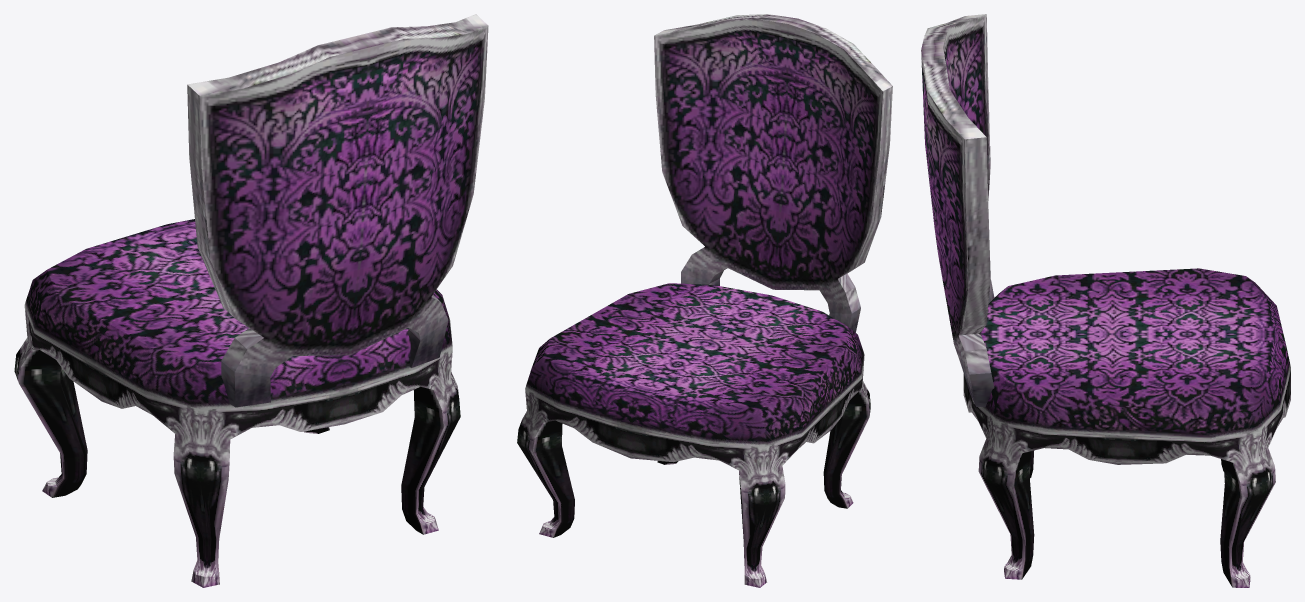
File: furni_0201207_02.FBX
3 renders of one model, left to right at view 1: azimuth 30°, elevation 25°; view 2: azimuth 150°, elevation 25°; view 3: azimuth 270°, elevation 25°, orthographic. The views are drawn at different scales.
Parts seen in each view (by area): view 1: furni_0201207_02; view 2: furni_0201207_02; view 3: furni_0201207_02.
Boxes of the visible parts, x1,y1,x2,y2 form: furni_0201207_02: (14,14,488,587); furni_0201207_02: (517,14,892,587); furni_0201207_02: (921,14,1290,587).
Size of the model in its own units: 72.78 by 112 by 78.13.
